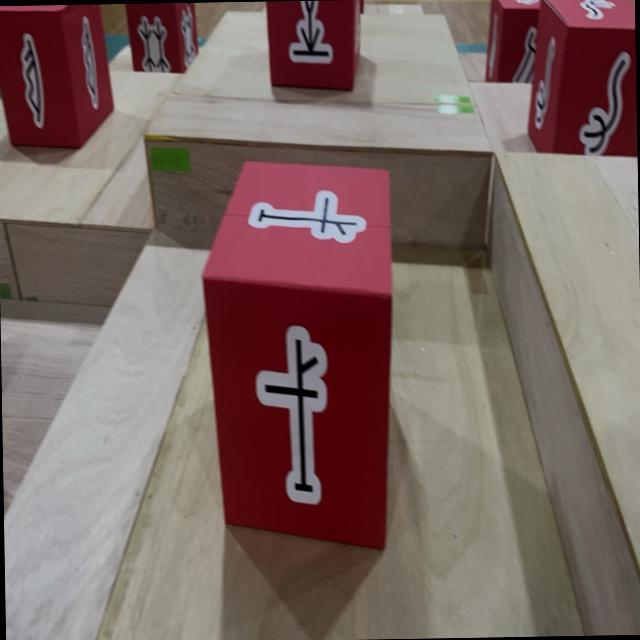10: (512, 25, 538, 83), (487, 12, 497, 78)
11: (20, 32, 46, 130), (80, 14, 98, 109)
13: (578, 50, 634, 156), (534, 35, 558, 129), (581, 0, 616, 19)
6: (137, 16, 170, 72), (180, 5, 196, 68)
7: (286, 0, 332, 64)
9: (253, 324, 329, 506), (248, 188, 366, 245)
fighter: (198, 158, 396, 552), (525, 0, 637, 158), (0, 3, 115, 150), (264, 0, 360, 92), (124, 2, 198, 73), (483, 0, 542, 84)
